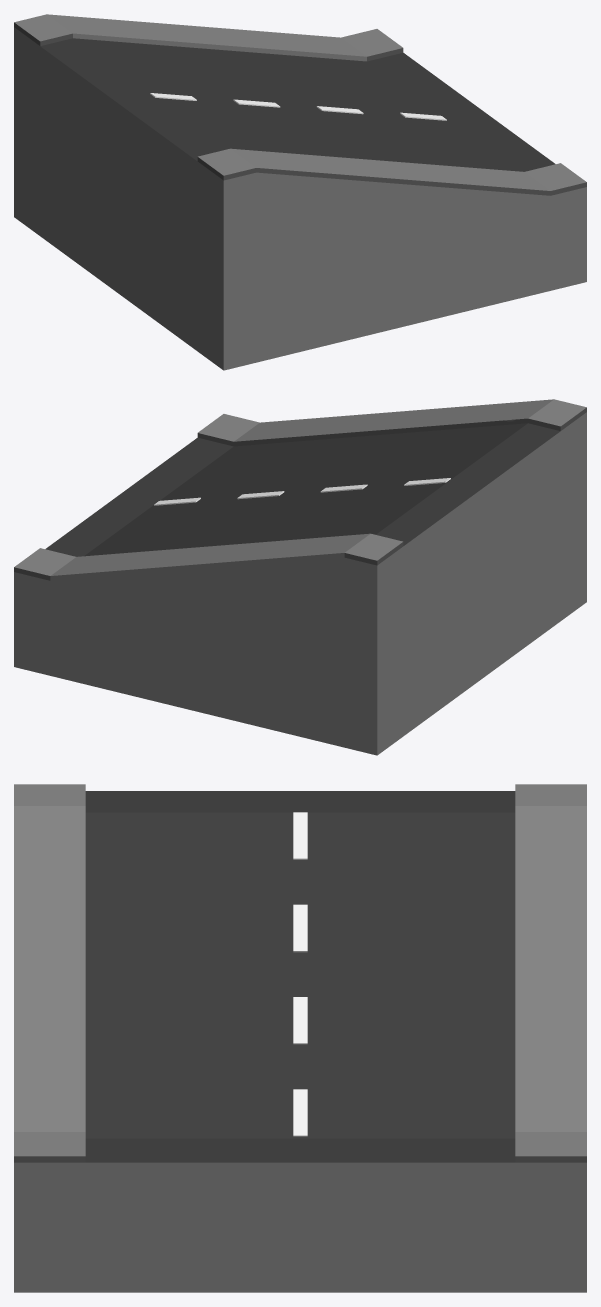
Rendered from RampStreet1.glb.
The picture shows the model from 3 angles, top to bottom: view 1: azimuth 30°, elevation 25°; view 2: azimuth 150°, elevation 25°; view 3: azimuth 270°, elevation 25°; orthographic projection. The views are drawn at different scales.
Parts seen in each view (by area): view 1: Cube, Cube.004, Cube.001, Cube.009, Cube.007, Cube.002, Cube.006, Cube.008, Cube.003; view 2: Cube, Cube.004, Cube.009, Cube.001, Cube.002, Cube.007, Cube.008, Cube.006, Cube.003; view 3: Cube.004, Cube, Cube.001, Cube.009, Cube.003, Cube.006, Cube.008, Cube.007, Cube.002.
Part boxes in pixels (box(x1,y1,x2,y2)): Cube: box(14, 27, 586, 370); Cube.004: box(40, 38, 555, 171); Cube.001: box(230, 148, 550, 195); Cube.009: box(47, 14, 366, 61); Cube.007: box(197, 149, 256, 180); Cube.002: box(14, 14, 72, 46); Cube.006: box(525, 163, 586, 195); Cube.008: box(341, 29, 403, 61); Cube.003: box(150, 93, 446, 120); Cube: box(14, 412, 586, 755); Cube.004: box(45, 423, 560, 556); Cube.009: box(50, 533, 370, 580); Cube.001: box(234, 399, 553, 446); Cube.002: box(344, 534, 403, 565); Cube.007: box(528, 399, 586, 431); Cube.008: box(14, 548, 75, 580); Cube.006: box(197, 414, 259, 446); Cube.003: box(154, 478, 450, 505); Cube.004: box(85, 791, 515, 1162); Cube: box(14, 1162, 586, 1292); Cube.001: box(14, 806, 85, 1131); Cube.009: box(515, 806, 586, 1131); Cube.003: box(293, 812, 307, 1136); Cube.006: box(14, 1132, 85, 1162); Cube.008: box(515, 1132, 586, 1162); Cube.007: box(14, 784, 85, 805); Cube.002: box(515, 784, 586, 805).
Bounding box in the file's own units: 16 × 8.2 × 16.
Materials: 2 (2 with a texture image).
